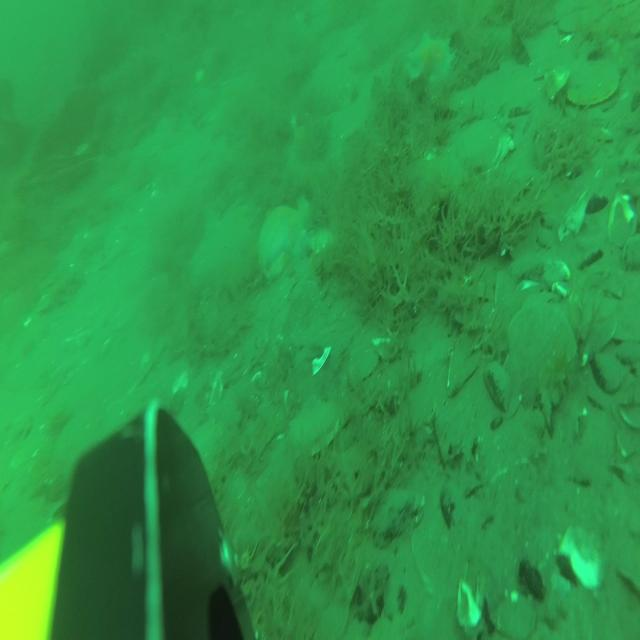scallop: (507, 305, 576, 400), (566, 51, 620, 105), (289, 398, 341, 450), (458, 119, 512, 168), (496, 590, 536, 640)
starfish: (252, 192, 312, 276), (407, 31, 456, 83)
